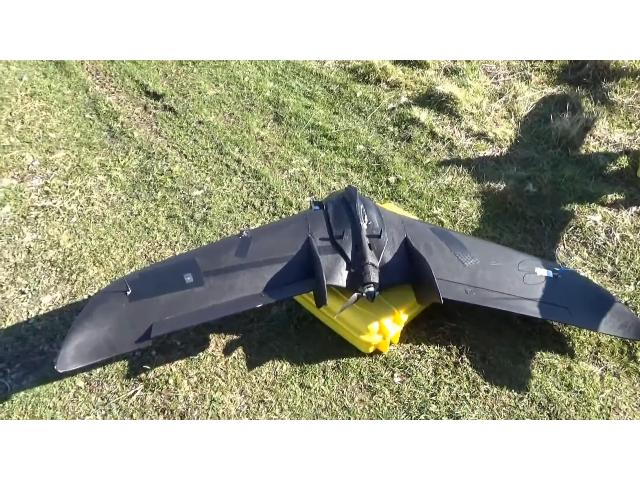Anti-Drone: (32, 187, 640, 389)
